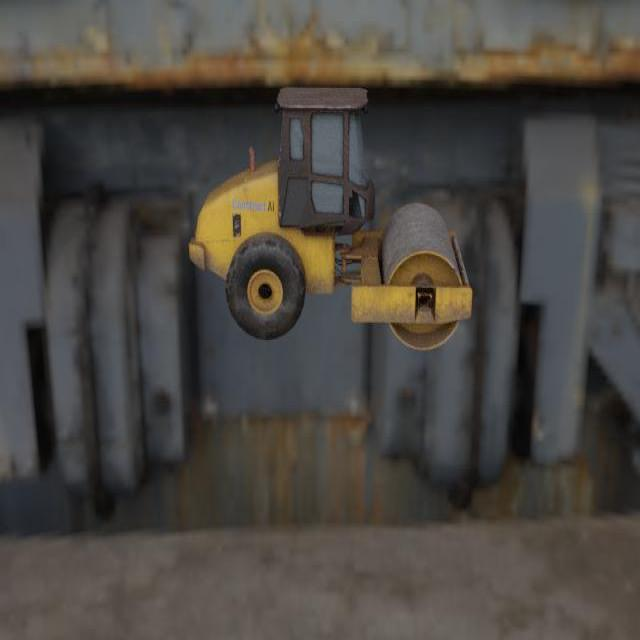Roller: (188, 87, 472, 350)
